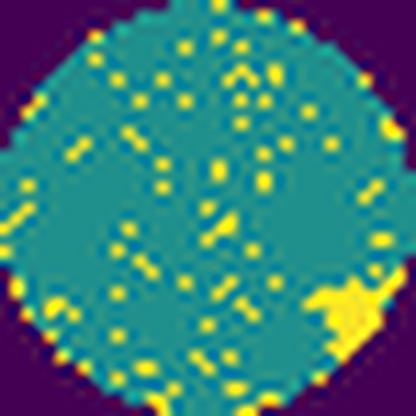Edge-Loc: (299, 257, 407, 364)
